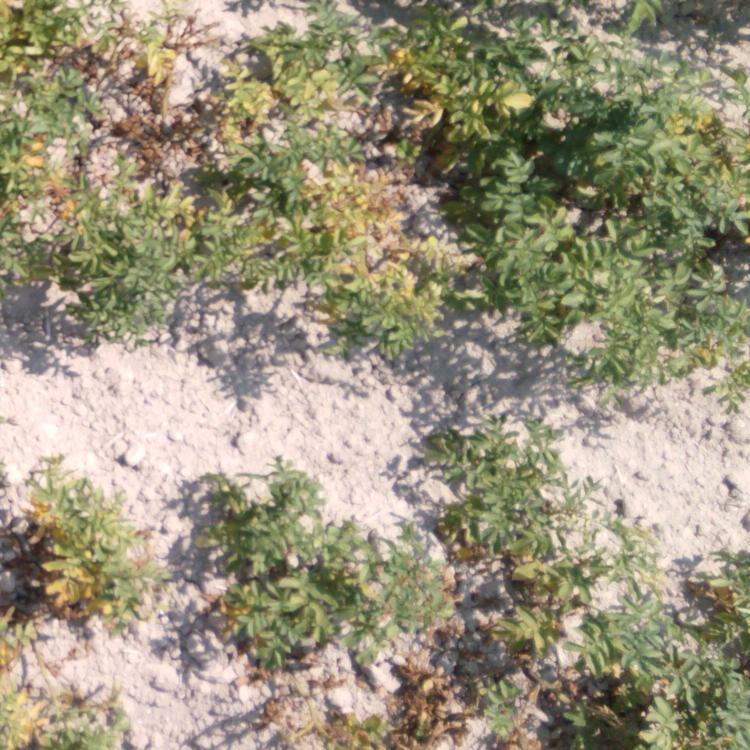healthy: (597, 236, 737, 369), (439, 417, 603, 523), (534, 1, 639, 163), (472, 163, 571, 328), (665, 591, 746, 750)
stressed: (191, 471, 366, 656), (1, 140, 153, 329), (1, 1, 194, 122), (473, 605, 627, 750), (312, 164, 426, 354), (171, 142, 303, 286), (11, 465, 133, 620), (388, 1, 512, 150), (265, 657, 456, 750), (226, 21, 370, 137), (386, 529, 602, 600), (2, 640, 132, 750), (657, 70, 750, 218)
